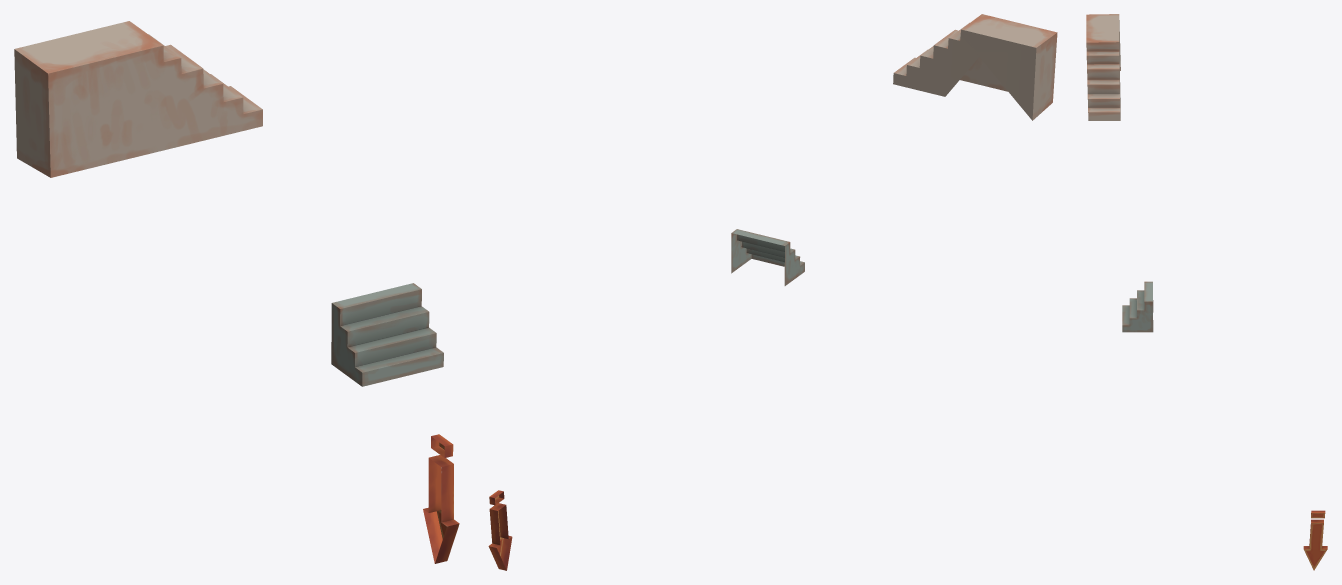
The model's file is stairs trim.obj.
The picture shows the model from 3 angles, left to right: view 1: azimuth 30°, elevation 25°; view 2: azimuth 150°, elevation 25°; view 3: azimuth 270°, elevation 25°; orthographic projection. The views are drawn at different scales.
Parts seen in each view (by area): view 1: polySurface1468 polySurface1455, polySurface1455 polySurface1467, polySurface1455 polySurface1466; view 2: polySurface1468 polySurface1455, polySurface1455 polySurface1467, polySurface1455 polySurface1466; view 3: polySurface1468 polySurface1455, polySurface1455 polySurface1467, polySurface1455 polySurface1466.
Part boxes in pixels (box(x1,y1,x2,y2)): polySurface1468 polySurface1455: box(14, 21, 262, 177); polySurface1455 polySurface1467: box(331, 283, 443, 386); polySurface1455 polySurface1466: box(423, 455, 459, 563); polySurface1468 polySurface1455: box(893, 14, 1057, 120); polySurface1455 polySurface1467: box(731, 229, 804, 285); polySurface1455 polySurface1466: box(488, 503, 512, 570); polySurface1468 polySurface1455: box(1086, 14, 1120, 120); polySurface1455 polySurface1467: box(1122, 281, 1153, 332); polySurface1455 polySurface1466: box(1303, 519, 1327, 570).
Bounding box in the file's own units: 12.17 × 14.87 × 8.06.
1 material, 1 textured.
